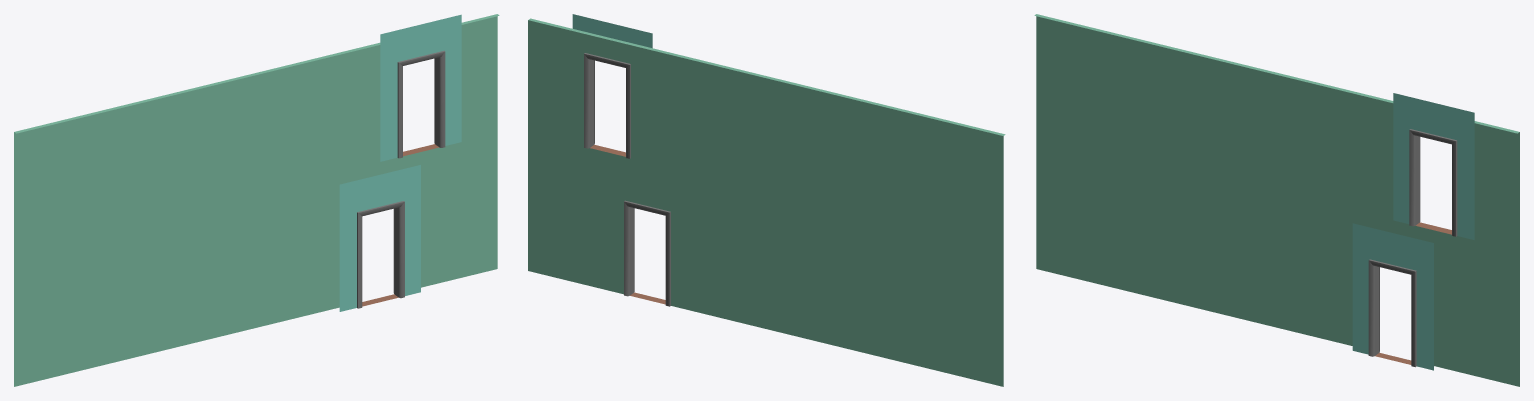
Rendered from SM_geo_foyerNorthWall.fbx.
The picture shows the model from 3 angles, left to right: view 1: azimuth 30°, elevation 25°; view 2: azimuth 150°, elevation 25°; view 3: azimuth 330°, elevation 25°; orthographic projection.
Parts seen in each view (by area): view 1: FoyerWall; view 2: FoyerWall; view 3: FoyerWall.
Boxes of the visible parts, bbox=[...] form: FoyerWall: bbox=[14, 14, 499, 386]; FoyerWall: bbox=[528, 14, 1005, 386]; FoyerWall: bbox=[1034, 14, 1519, 386].
Bounding box in the file's own units: 1190 × 630 × 30.
